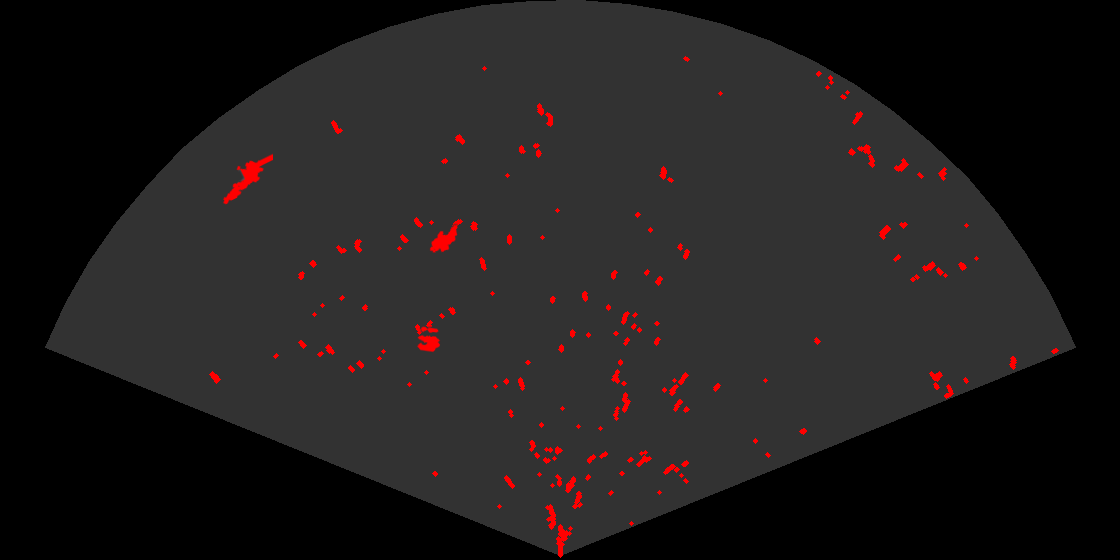AUV: (428, 223, 459, 254)
ball: (415, 325, 442, 354)
frogman: (221, 152, 273, 206)
